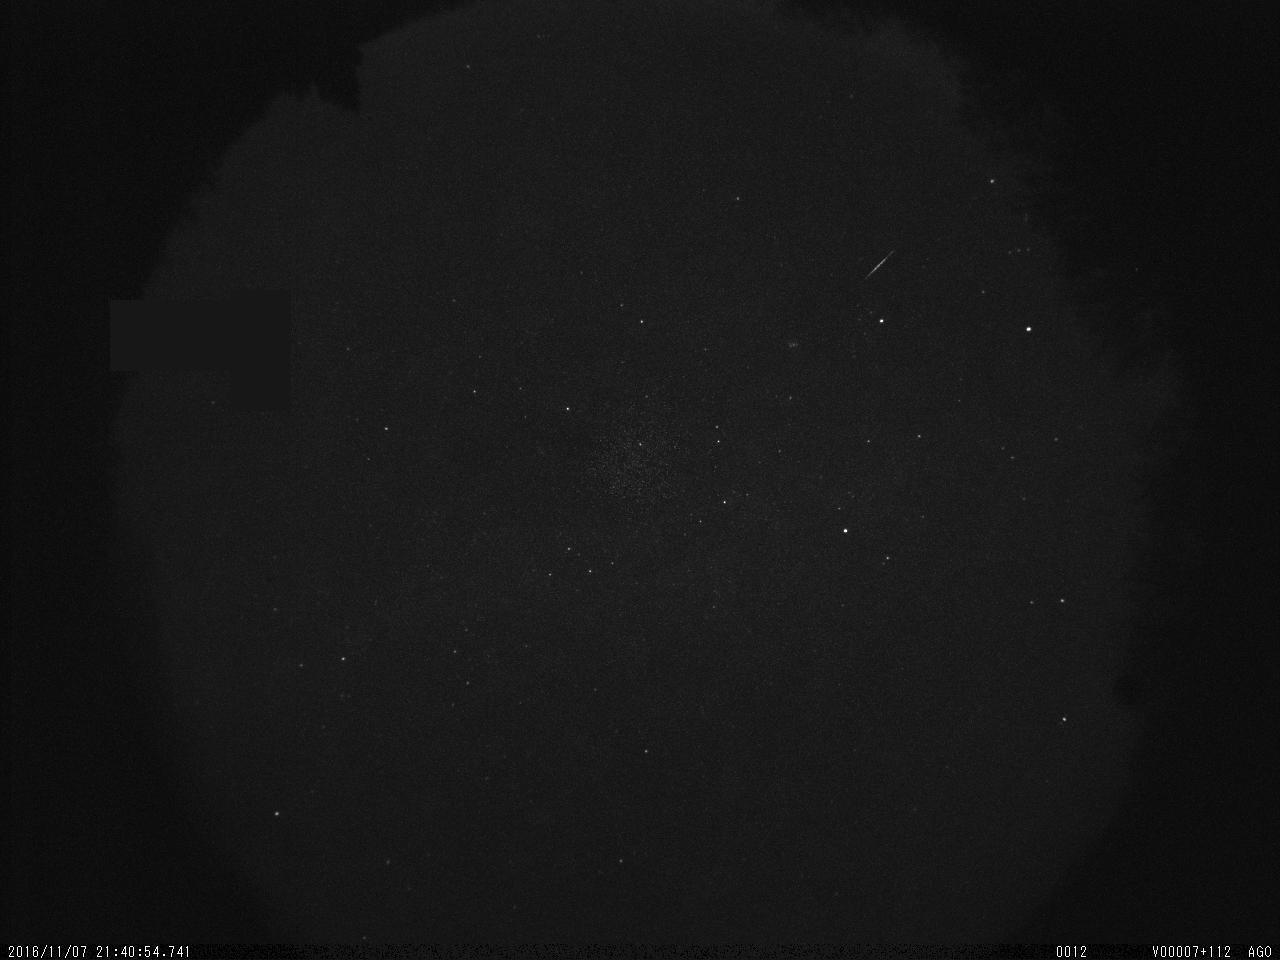meteor: (863, 237, 899, 282)
